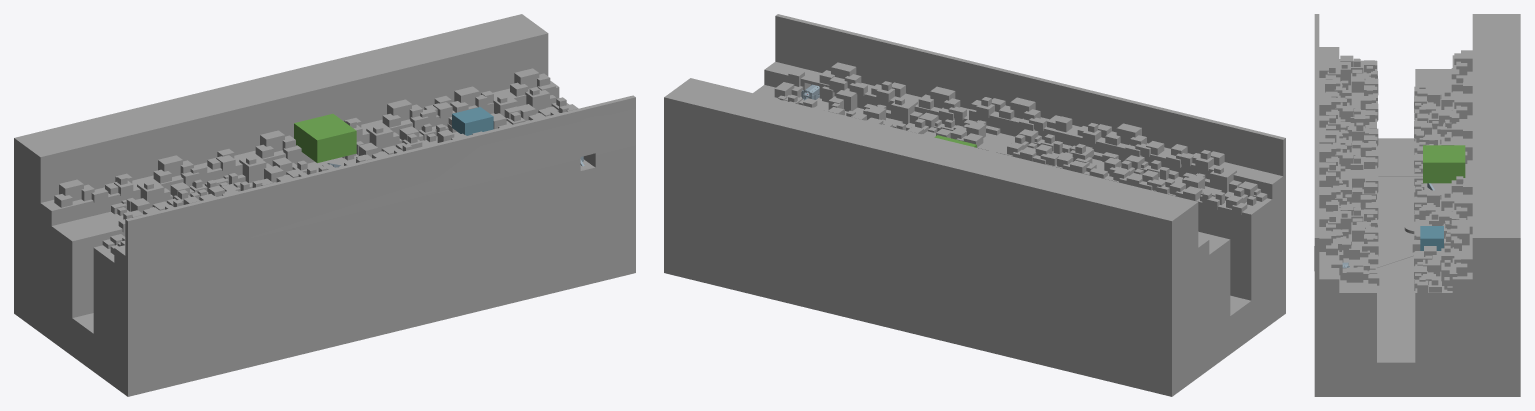
Rendered from Canal_Greybox_v01.fbx.
3 views of the same model, side by side, from view 1: azimuth 30°, elevation 25°; view 2: azimuth 150°, elevation 25°; view 3: azimuth 270°, elevation 25° (orthographic). The views are drawn at different scales.
Parts seen in each view (by area): view 1: pCube3, pCube7, pCube99, pCube53; view 2: pCube7, pCube3; view 3: pCube7, pCube3, pCube99, pCube53, pCube16, pCube175, pCube205, pCube185, pCube59, pCube393, pCube280, pCube244 (+13 smaller).
Boxes of the visible parts, x1=… form: pCube3: x1=73, y1=95, x2=635, y2=396; pCube7: x1=14, y1=14, x2=559, y2=356; pCube99: x1=294, y1=113, x2=356, y2=162; pCube53: x1=452, y1=107, x2=493, y2=135; pCube7: x1=664, y1=78, x2=1231, y2=396; pCube3: x1=753, y1=14, x2=1285, y2=352; pCube7: x1=1412, y1=14, x2=1520, y2=396; pCube3: x1=1314, y1=14, x2=1412, y2=396; pCube99: x1=1423, y1=145, x2=1465, y2=183; pCube53: x1=1420, y1=226, x2=1443, y2=250; pCube16: x1=1346, y1=267, x2=1363, y2=282; pCube175: x1=1333, y1=211, x2=1351, y2=234; pCube205: x1=1319, y1=230, x2=1331, y2=251; pCube185: x1=1319, y1=187, x2=1331, y2=208; pCube59: x1=1457, y1=225, x2=1469, y2=245; pCube393: x1=1333, y1=62, x2=1350, y2=85; pCube280: x1=1319, y1=96, x2=1331, y2=115; pCube244: x1=1319, y1=143, x2=1331, y2=162.
Size of the model in its own units: 725 by 240 by 282.
